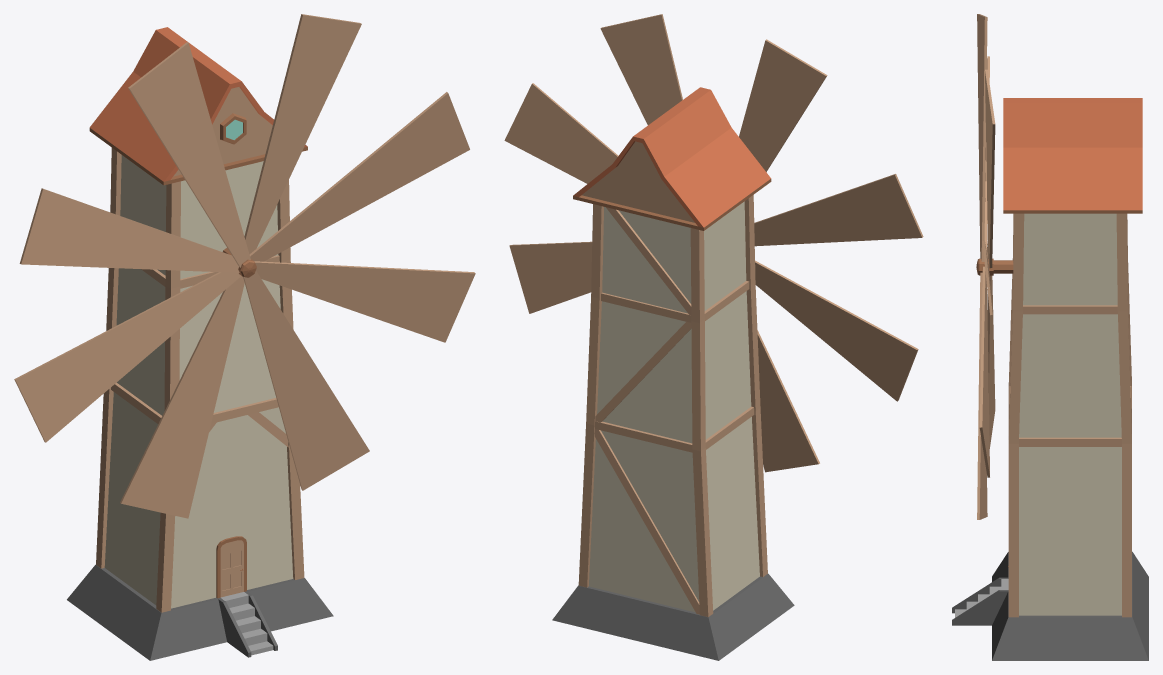
File: Windmill.fbx
The picture shows the model from 3 angles, left to right: view 1: azimuth 30°, elevation 25°; view 2: azimuth 150°, elevation 25°; view 3: azimuth 270°, elevation 25°; orthographic projection. The views are drawn at different scales.
Parts seen in each view (by area): view 1: WindmillWings, WindmillBasis; view 2: WindmillBasis, WindmillWings; view 3: WindmillBasis, WindmillWings.
Boxes of the visible parts, x1,y1,x2,y2 form: WindmillWings: (14,14,475,518); WindmillBasis: (67,27,333,660); WindmillBasis: (552,87,794,660); WindmillWings: (504,14,923,472); WindmillBasis: (952,98,1148,660); WindmillWings: (977,14,995,519).
Size of the model in its own units: 849 by 1092 by 338.
